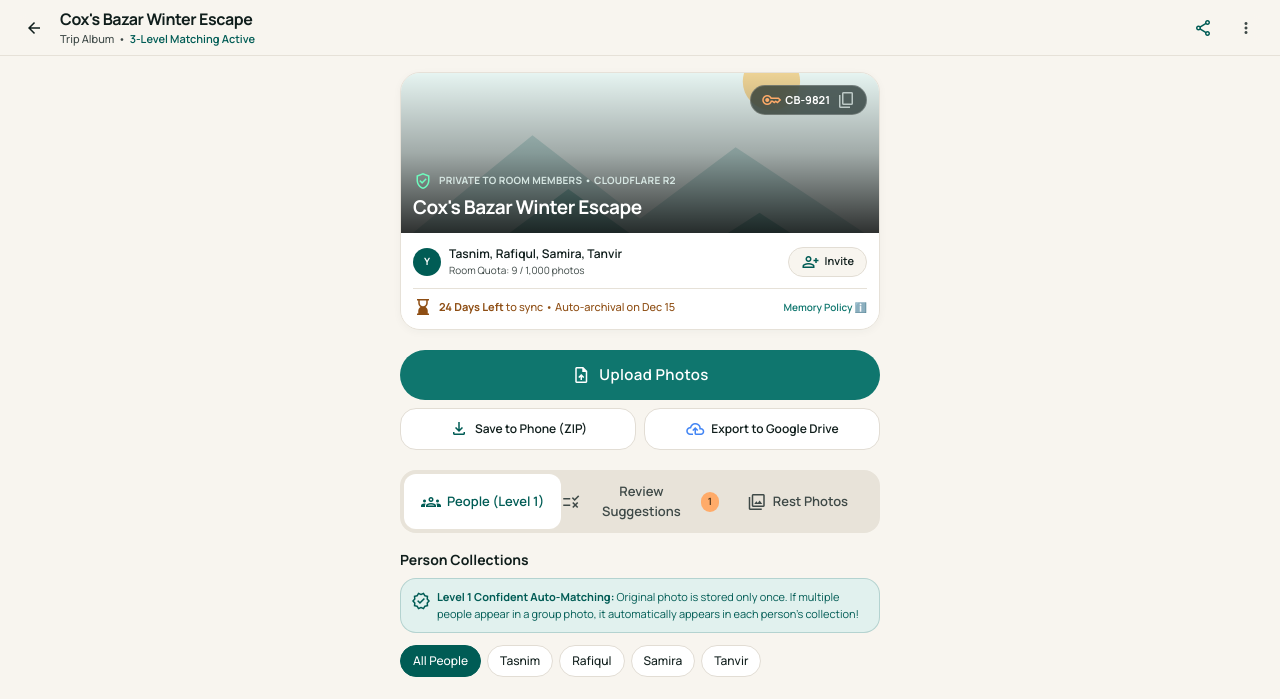
Scenario: Three-Level Photo Matching & Grouping System › Enforces Dual Export actions: Save to Phone (ZIP) and Export to Google Drive
Expected: the button "Export to Google Drive" is shown, [644,408,880,450]
What coordinates should you click on to do the following:
click the button "Save to Phone (ZIP)"
I would click on:
 (518, 429)
Its box is [400,408,636,450].
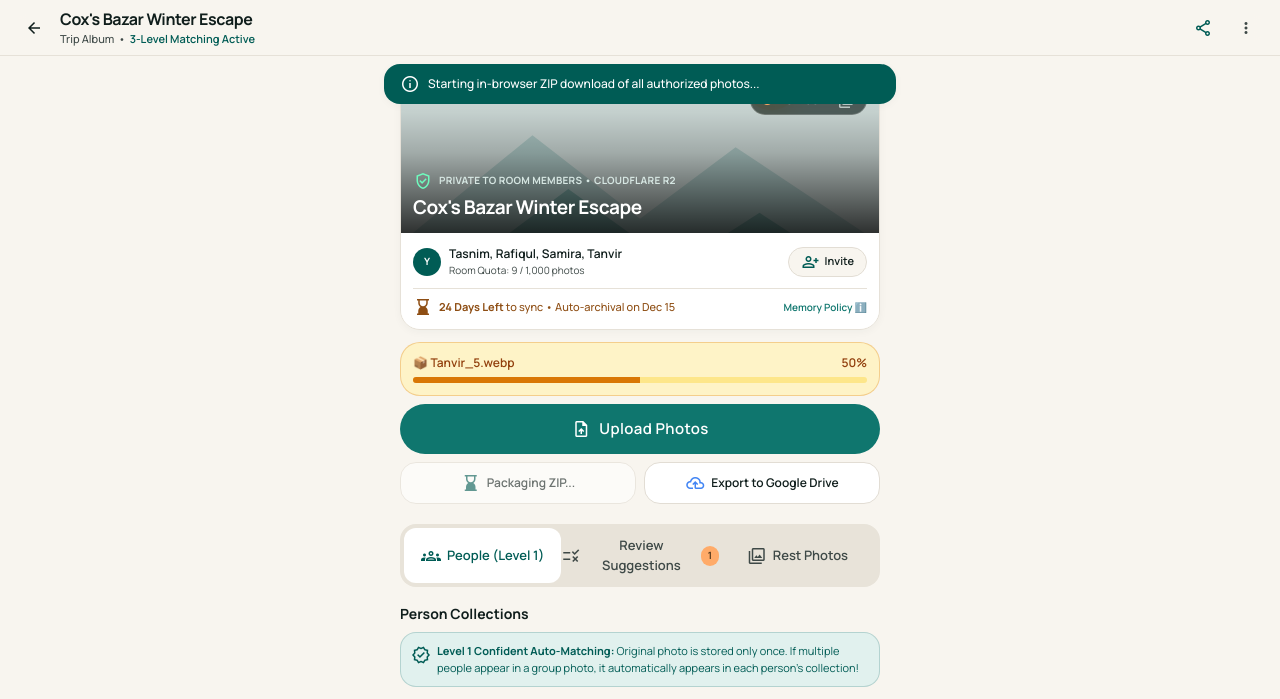
Now the text "Starting in-browser ZIP download of all authorized photos..." is shown, box [428,75,760,93]
What coordinates should you click on to do the following:
click the button "Export to Google Drive"
I would click on:
 (762, 483)
Its box is [644,462,880,504].
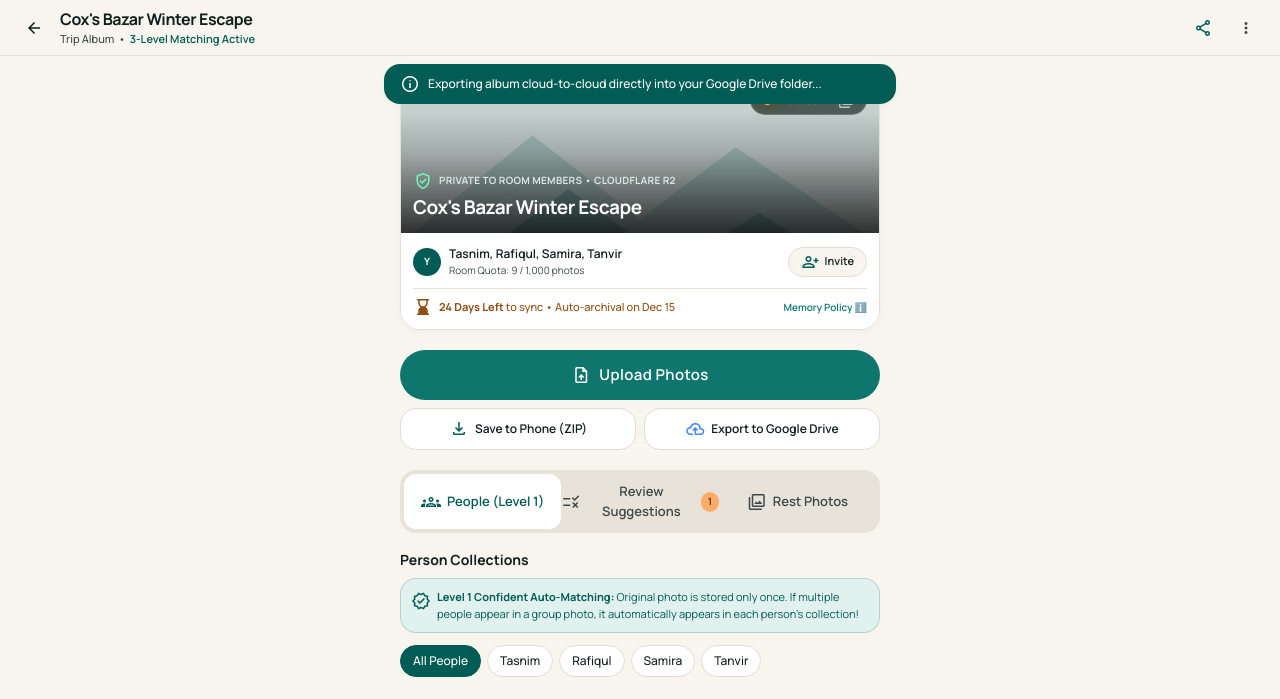
Now the text "Exporting album cloud-to-cloud directly into your Google Drive" is shown, box [428,75,822,92]
